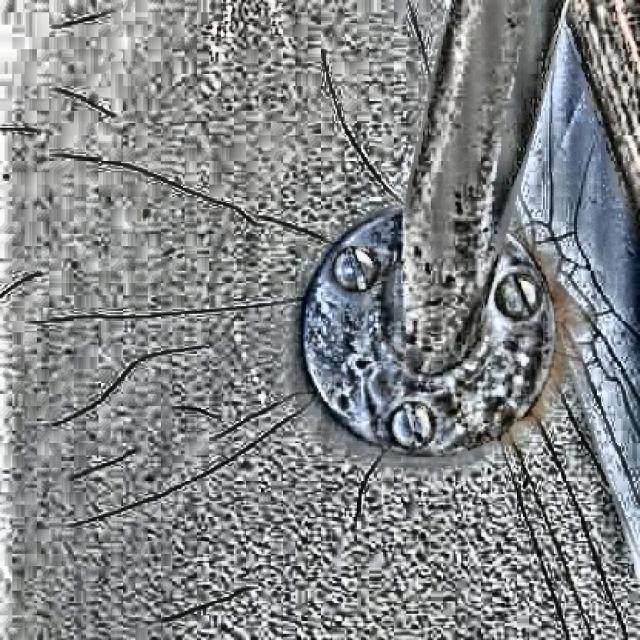crack: (49, 418, 354, 536), (63, 146, 360, 250), (304, 54, 400, 197), (30, 275, 310, 323), (56, 346, 204, 429), (195, 391, 314, 449), (143, 581, 286, 624), (350, 444, 390, 561), (69, 446, 158, 491)
